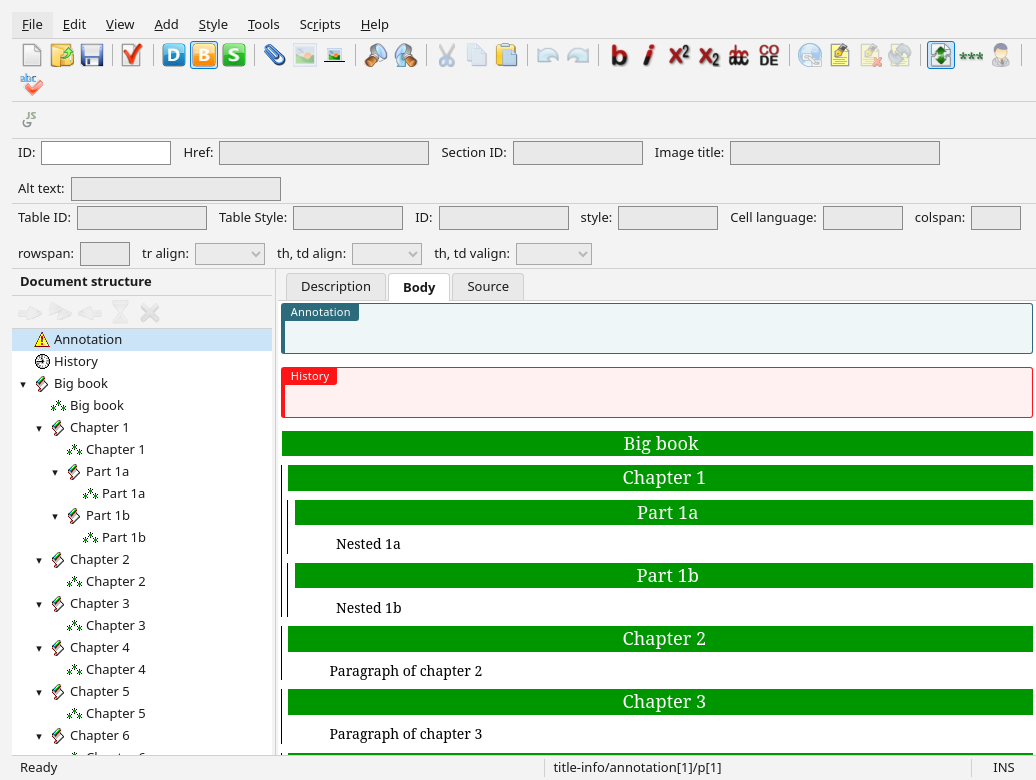
Document Tree panel › View > Document Tree toggles the panel and persists session.treeVisible
The width and height of the screenshot is (1036, 780).
Click the menu item with test id "menu-view": (120, 25) [96,12,145,38]
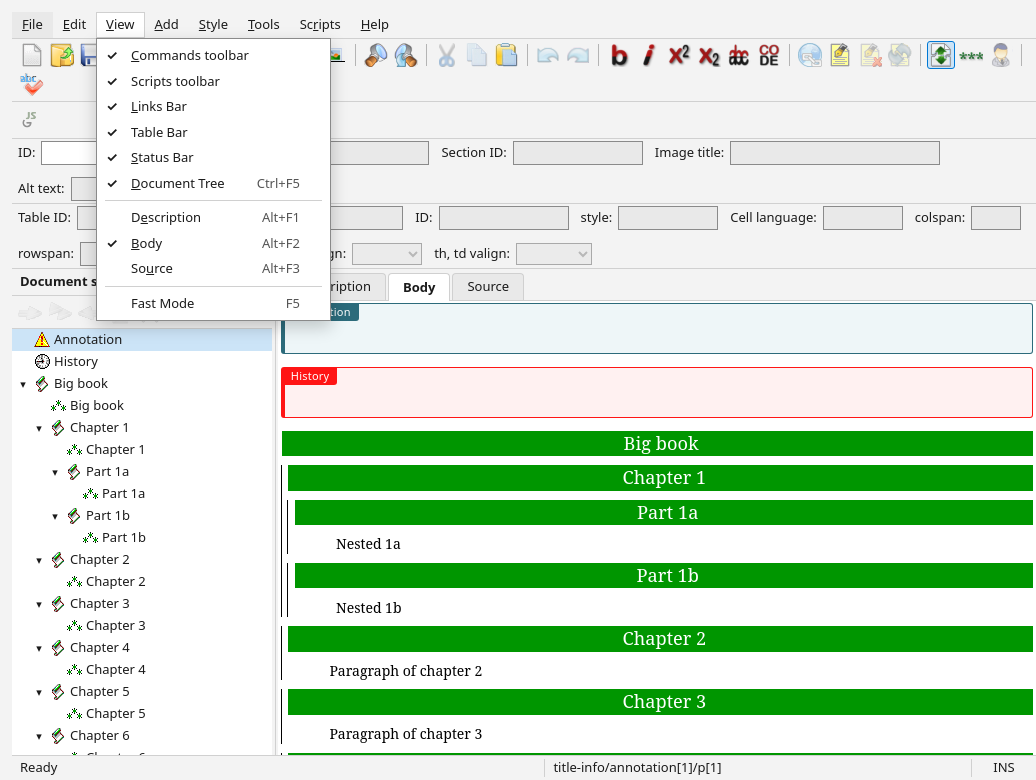
Click the menu item with test id "menu-view-tree": (203, 183) [106,174,300,192]
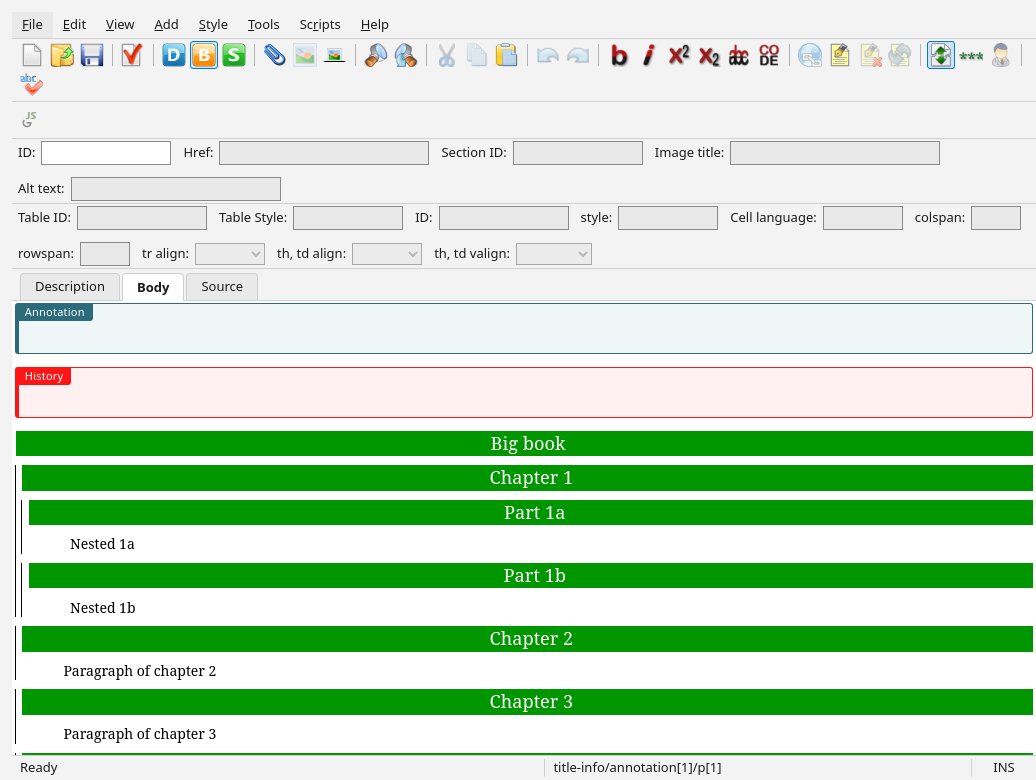
Expected: the element with test id "tree-panel" is gone
